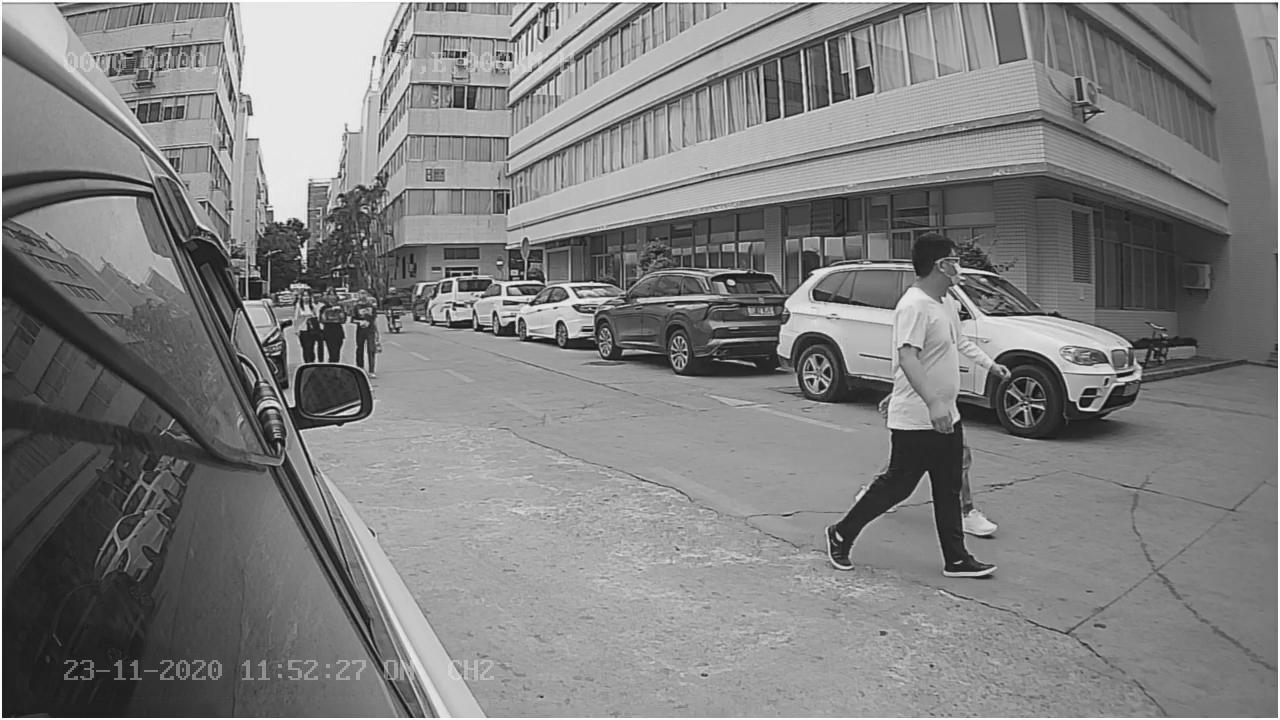person: (848, 232, 990, 589)
